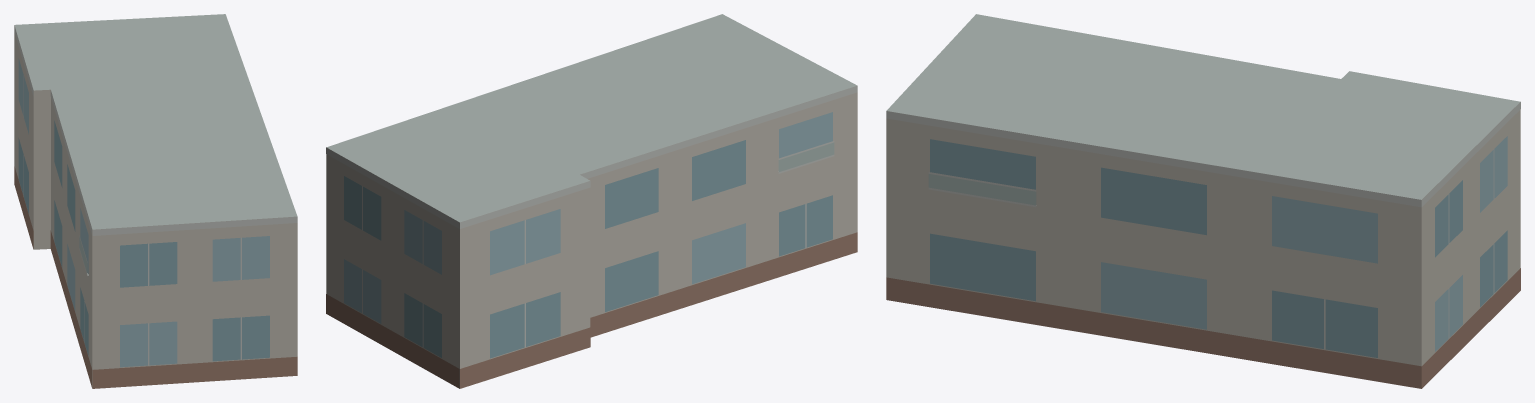
The model's file is survey-upis-32708897.glb.
The picture shows the model from 3 angles, left to right: view 1: azimuth 30°, elevation 25°; view 2: azimuth 150°, elevation 25°; view 3: azimuth 270°, elevation 25°; orthographic projection. The views are drawn at different scales.
Visible parts, largest first — view 1: survey-upis-32708897.tmp; view 2: survey-upis-32708897.tmp; view 3: survey-upis-32708897.tmp.
Part boxes in pixels (x1,y1,x2,y2): survey-upis-32708897.tmp: [14, 14, 297, 388]; survey-upis-32708897.tmp: [326, 14, 857, 388]; survey-upis-32708897.tmp: [886, 14, 1520, 388].
Size of the model in its own units: 12.87 by 6.1 by 18.57.
